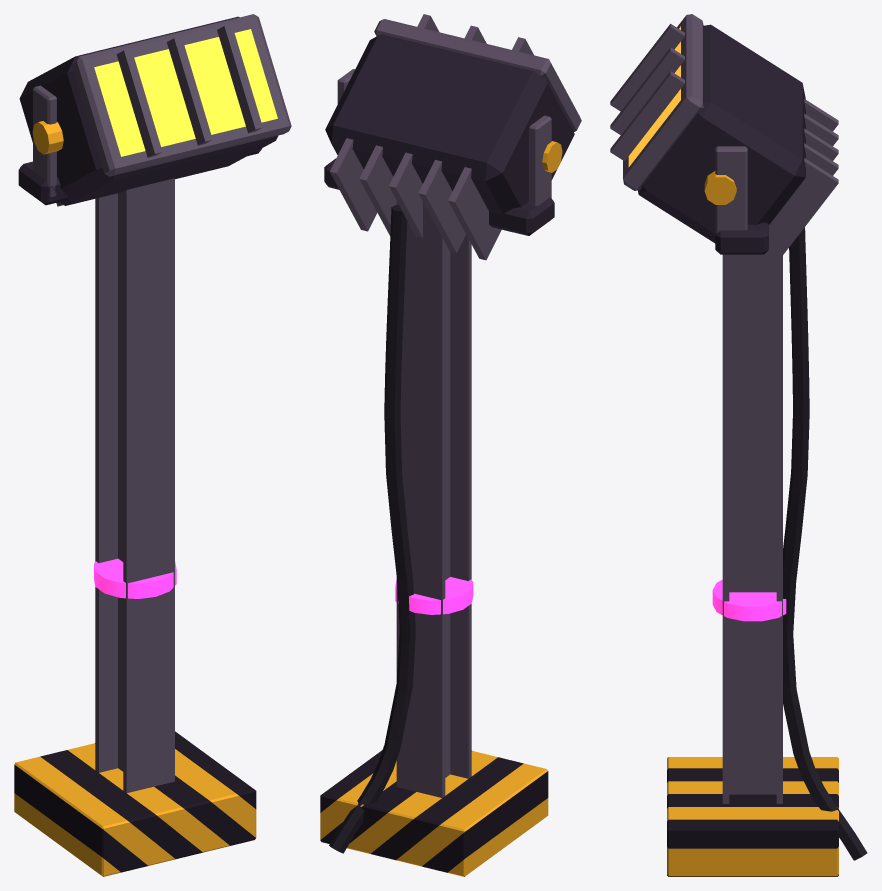
Rendered from lamp__lower.glb.
3 views of the same model, side by side, from view 1: azimuth 30°, elevation 25°; view 2: azimuth 150°, elevation 25°; view 3: azimuth 270°, elevation 25° (orthographic). The views are drawn at different scales.
Visible parts, largest first — view 1: Body; view 2: Body; view 3: Body.
Boxes of the visible parts, x1,y1,x2,y2 form: Body: (14,14,291,876); Body: (320,14,581,876); Body: (610,14,867,876).
Size of the model in its own units: 0.46 by 1.62 by 0.4781.
